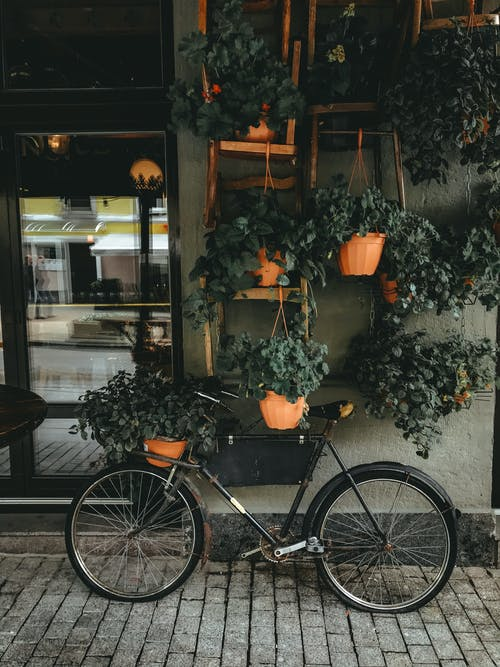bicycle: (58, 371, 464, 620)
